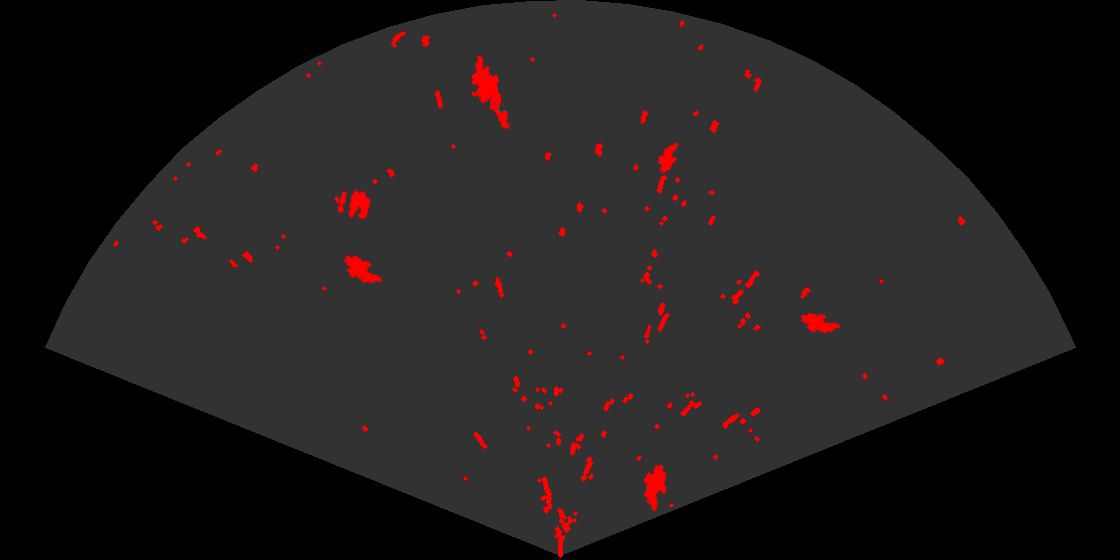AUV: (342, 254, 384, 286), (642, 463, 668, 513), (799, 311, 842, 335), (656, 141, 680, 175)
ball: (336, 189, 372, 221)
frogman: (469, 62, 511, 131)
